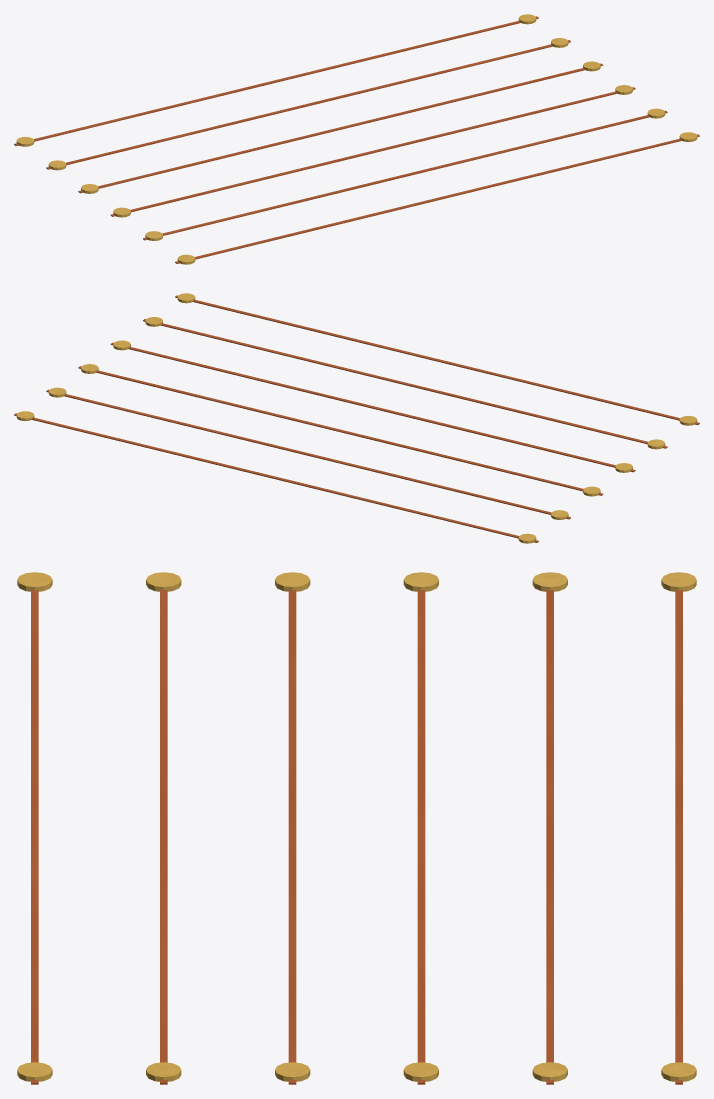
The model's file is 384_L124_TR2_DecorativeReturnReference.obj.
3 renders of one model, top to bottom at view 1: azimuth 30°, elevation 25°; view 2: azimuth 150°, elevation 25°; view 3: azimuth 270°, elevation 25°, orthographic. The views are drawn at different scales.
Visible parts, largest first — view 1: 384_L124_TR2_DecorativeReturnReference__PSMAT__copper, 384_L124_TR2_DecorativeReturnReference__PSMAT__gold; view 2: 384_L124_TR2_DecorativeReturnReference__PSMAT__copper, 384_L124_TR2_DecorativeReturnReference__PSMAT__gold; view 3: 384_L124_TR2_DecorativeReturnReference__PSMAT__copper, 384_L124_TR2_DecorativeReturnReference__PSMAT__gold.
Boxes of the visible parts, <box> form: 384_L124_TR2_DecorativeReturnReference__PSMAT__copper: <box>14,16,699,263</box>; 384_L124_TR2_DecorativeReturnReference__PSMAT__gold: <box>16,14,697,264</box>; 384_L124_TR2_DecorativeReturnReference__PSMAT__copper: <box>14,295,699,542</box>; 384_L124_TR2_DecorativeReturnReference__PSMAT__gold: <box>16,293,697,543</box>; 384_L124_TR2_DecorativeReturnReference__PSMAT__copper: <box>31,590,682,1084</box>; 384_L124_TR2_DecorativeReturnReference__PSMAT__gold: <box>17,572,696,1081</box>.
Size of the model in its own units: 0.075 by 0.00035 by 0.0422.
2 materials, 2 textured.
